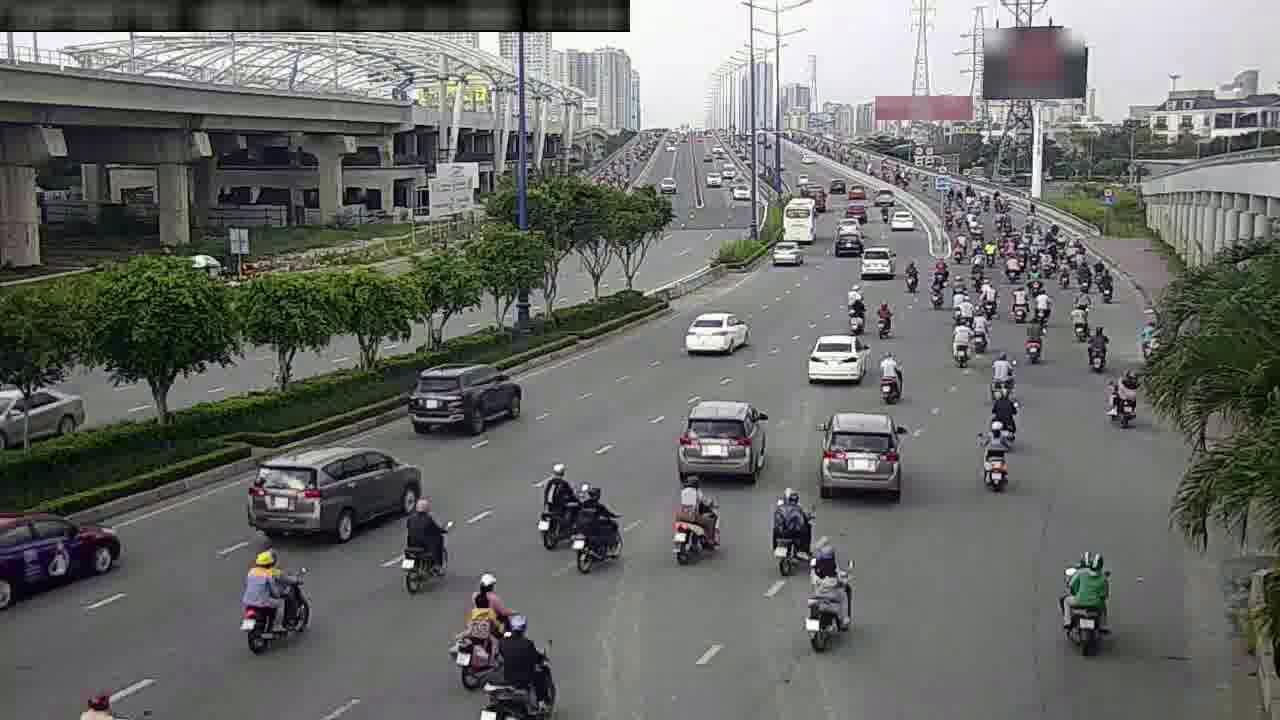container: (251, 442, 418, 542), (0, 505, 115, 599), (410, 354, 521, 434), (677, 392, 768, 478), (816, 409, 906, 494), (803, 326, 868, 386), (682, 304, 748, 359), (857, 246, 896, 279), (768, 234, 805, 268)
motorbike: (234, 545, 314, 649), (480, 613, 562, 713), (452, 579, 514, 688), (1057, 536, 1114, 652), (801, 541, 860, 647), (391, 494, 453, 589), (565, 480, 624, 574), (665, 471, 722, 562), (530, 458, 583, 550), (765, 480, 816, 572), (975, 420, 1014, 492), (1104, 366, 1141, 428), (871, 348, 905, 405), (986, 384, 1020, 440), (945, 319, 974, 370), (1081, 326, 1111, 375), (986, 349, 1016, 396), (1132, 313, 1162, 359), (1019, 319, 1047, 365), (871, 296, 897, 338), (1066, 300, 1090, 343), (1094, 265, 1119, 305), (844, 294, 868, 335), (969, 311, 992, 352), (1006, 283, 1029, 323), (1031, 286, 1055, 324), (976, 277, 999, 316), (949, 286, 972, 324), (841, 280, 866, 312), (924, 274, 946, 310), (899, 259, 920, 295)
